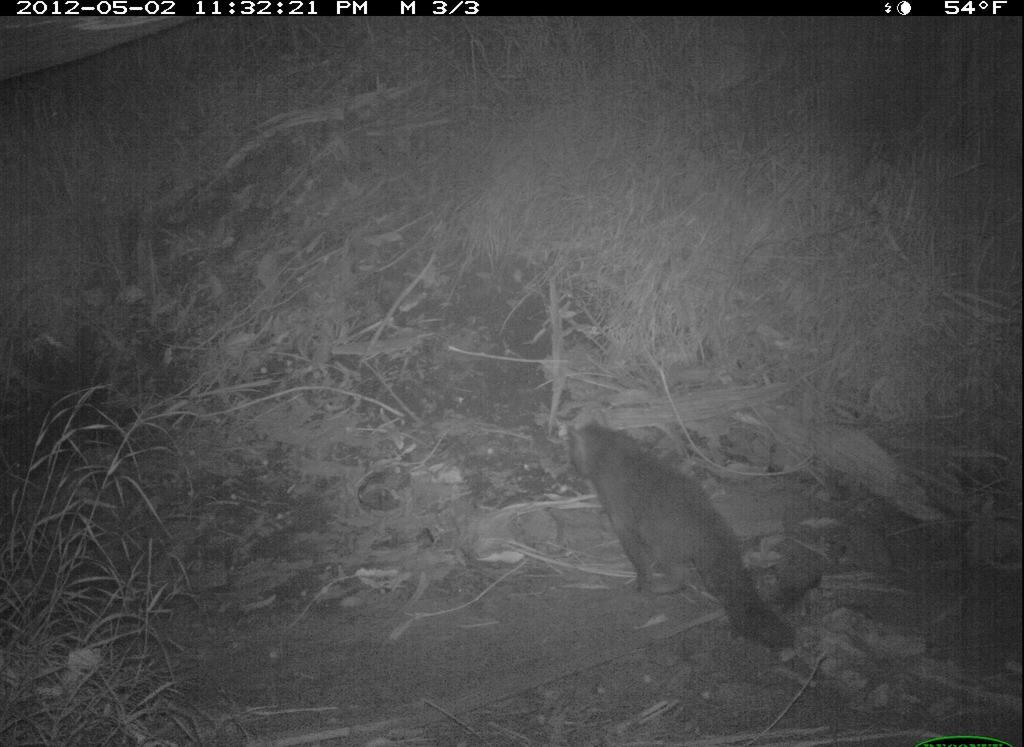cat: (551, 408, 820, 657)
